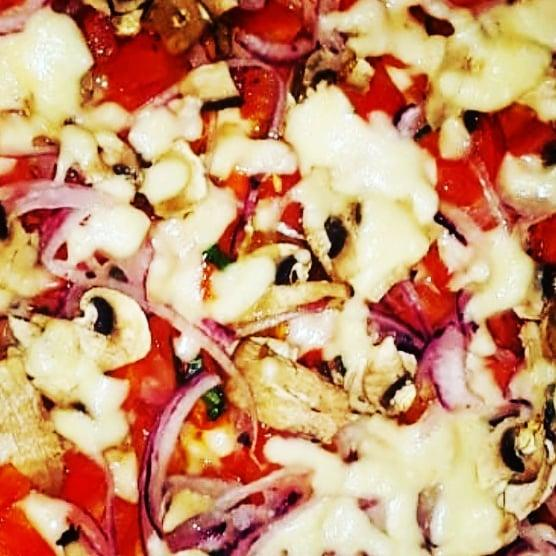Cheese: (316, 442, 492, 556), (292, 106, 427, 242), (392, 19, 554, 98), (232, 271, 369, 356), (32, 331, 120, 441), (6, 26, 91, 126), (116, 201, 221, 275), (99, 122, 199, 194)
Onion: (139, 382, 200, 517), (9, 176, 111, 242), (121, 276, 209, 344), (232, 19, 327, 62), (417, 342, 467, 416)
Pizza: (2, 2, 556, 556)
Tomatoes: (4, 467, 122, 554), (91, 32, 182, 105), (424, 142, 504, 219), (482, 101, 556, 162), (221, 1, 305, 49), (124, 349, 184, 399), (222, 436, 270, 487), (236, 69, 286, 115), (356, 74, 412, 113)
